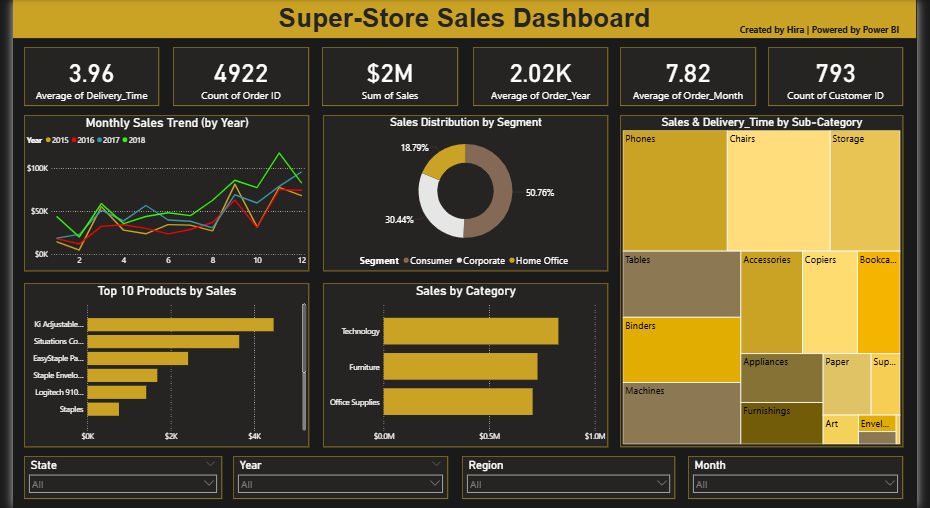

This screenshot's page, from the dashboard's own definition file:
{"tool":"powerbi","page":{"name":"Page 1","canvas":[1920,1080],"ordinal":0},"visuals":[{"type":"textbox","box":[0,0,1919.8,80.8],"z":0},{"type":"card","fields":{"Values":["Sum(Superstore Sales Dataset - Cleaned.Sales)"]},"box":[656.8,99.9,289.4,125.4],"z":0,"group":"g1"},{"type":"clusteredBarChart","title":"Sales by Category","fields":{"Category":["Superstore Sales Dataset - Cleaned.Category"],"Y":["Sum(Superstore Sales Dataset - Cleaned.Sales)"]},"box":[659.1,601.7,605.9,348.7],"z":1000},{"type":"card","fields":{"Values":["Count(Superstore Sales Dataset - Cleaned.Customer ID)"]},"box":[1604.8,99.9,287.3,125.4],"z":2000,"group":"g1"},{"type":"treemap","title":"Sales & Delivery_Time by Sub-Category","fields":{"Group":["Superstore Sales Dataset - Cleaned.Sub-Category"],"Values":["Sum(Superstore Sales Dataset - Cleaned.Sales)"]},"box":[1290.5,244.5,601.7,705.8],"z":2000},{"type":"card","fields":{"Values":["Count(Superstore Sales Dataset - Cleaned.Order ID)"]},"box":[340.1,99.9,289.4,125.4],"z":3000,"group":"g1"},{"type":"lineChart","title":"Monthly Sales Trend (by Year)","fields":{"Category":["Superstore Sales Dataset - Cleaned.Month"],"Y":["Sum(Superstore Sales Dataset - Cleaned.Sales)"],"Series":["Superstore Sales Dataset - Cleaned.Year"]},"box":[23.4,243.9,605.9,331.7],"z":3000},{"type":"card","fields":{"Values":["Avg(Superstore Sales Dataset - Cleaned.Order_Month)"]},"box":[1290.2,99.9,289.4,125.4],"z":4000,"group":"g1"},{"type":"barChart","title":"Top 10 Products by Sales","fields":{"Y":["Sum(Superstore Sales Dataset - Cleaned.Sales)"],"Category":["Superstore Sales Dataset - Cleaned.Product Name"]},"box":[23.4,601.7,605.9,348.7],"z":4000},{"type":"card","fields":{"Values":["Avg(Superstore Sales Dataset - Cleaned.Order_Year)"]},"box":[977.7,99.9,287.3,125.4],"z":5000,"group":"g1"},{"type":"donutChart","title":"Sales Distribution by Segment","fields":{"Y":["Sum(Superstore Sales Dataset - Cleaned.Sales)"],"Category":["Superstore Sales Dataset - Cleaned.Segment"]},"box":[659.1,244.5,605.9,331.7],"z":5000},{"type":"card","fields":{"Values":["Avg(Superstore Sales Dataset - Cleaned.Delivery_Time)"]},"box":[23.4,99.9,287.3,125.4],"z":6000,"group":"g1"},{"type":"slicer","fields":{"Values":["Superstore Sales Dataset - Cleaned.Month"]},"box":[1486.1,969.4,406.1,91.4],"z":6000},{"type":"slicer","fields":{"Values":["Superstore Sales Dataset - Cleaned.Year"]},"box":[535.7,969.4,410.3,91.4],"z":7000},{"type":"slicer","fields":{"Values":["Superstore Sales Dataset - Cleaned.Region"]},"box":[1024.7,969.4,410.3,91.4],"z":8000},{"type":"slicer","fields":{"Values":["Superstore Sales Dataset - Cleaned.State"]},"box":[23.4,969.4,431.6,91.4],"z":9000},{"type":"group","id":"g1","title":"Group 1","box":[23.4,99.9,1868.7,125.4],"z":10000}]}

Visuals, with their boxes in screenshot pixels (x1, y1, x2, y2), scaled from the page's 1920x1080 canvas onto the 930x508 screenshot:
textbox: {"left": 0, "top": 0, "right": 929, "bottom": 38}
card - Sum(Superstore Sales Dataset - Cleaned.Sales): {"left": 318, "top": 47, "right": 458, "bottom": 106}
"Sales by Category" clusteredBarChart: {"left": 319, "top": 283, "right": 613, "bottom": 447}
card - Count(Superstore Sales Dataset - Cleaned.Customer ID): {"left": 777, "top": 47, "right": 916, "bottom": 106}
"Sales & Delivery_Time by Sub-Category" treemap: {"left": 625, "top": 115, "right": 917, "bottom": 447}
card - Count(Superstore Sales Dataset - Cleaned.Order ID): {"left": 165, "top": 47, "right": 305, "bottom": 106}
"Monthly Sales Trend (by Year)" lineChart: {"left": 11, "top": 115, "right": 305, "bottom": 271}
card - Avg(Superstore Sales Dataset - Cleaned.Order_Month): {"left": 625, "top": 47, "right": 765, "bottom": 106}
"Top 10 Products by Sales" barChart: {"left": 11, "top": 283, "right": 305, "bottom": 447}
card - Avg(Superstore Sales Dataset - Cleaned.Order_Year): {"left": 474, "top": 47, "right": 613, "bottom": 106}
"Sales Distribution by Segment" donutChart: {"left": 319, "top": 115, "right": 613, "bottom": 271}
card - Avg(Superstore Sales Dataset - Cleaned.Delivery_Time): {"left": 11, "top": 47, "right": 150, "bottom": 106}
slicer - Superstore Sales Dataset - Cleaned.Month: {"left": 720, "top": 456, "right": 917, "bottom": 499}
slicer - Superstore Sales Dataset - Cleaned.Year: {"left": 259, "top": 456, "right": 458, "bottom": 499}
slicer - Superstore Sales Dataset - Cleaned.Region: {"left": 496, "top": 456, "right": 695, "bottom": 499}
slicer - Superstore Sales Dataset - Cleaned.State: {"left": 11, "top": 456, "right": 220, "bottom": 499}
"Group 1" group: {"left": 11, "top": 47, "right": 916, "bottom": 106}
